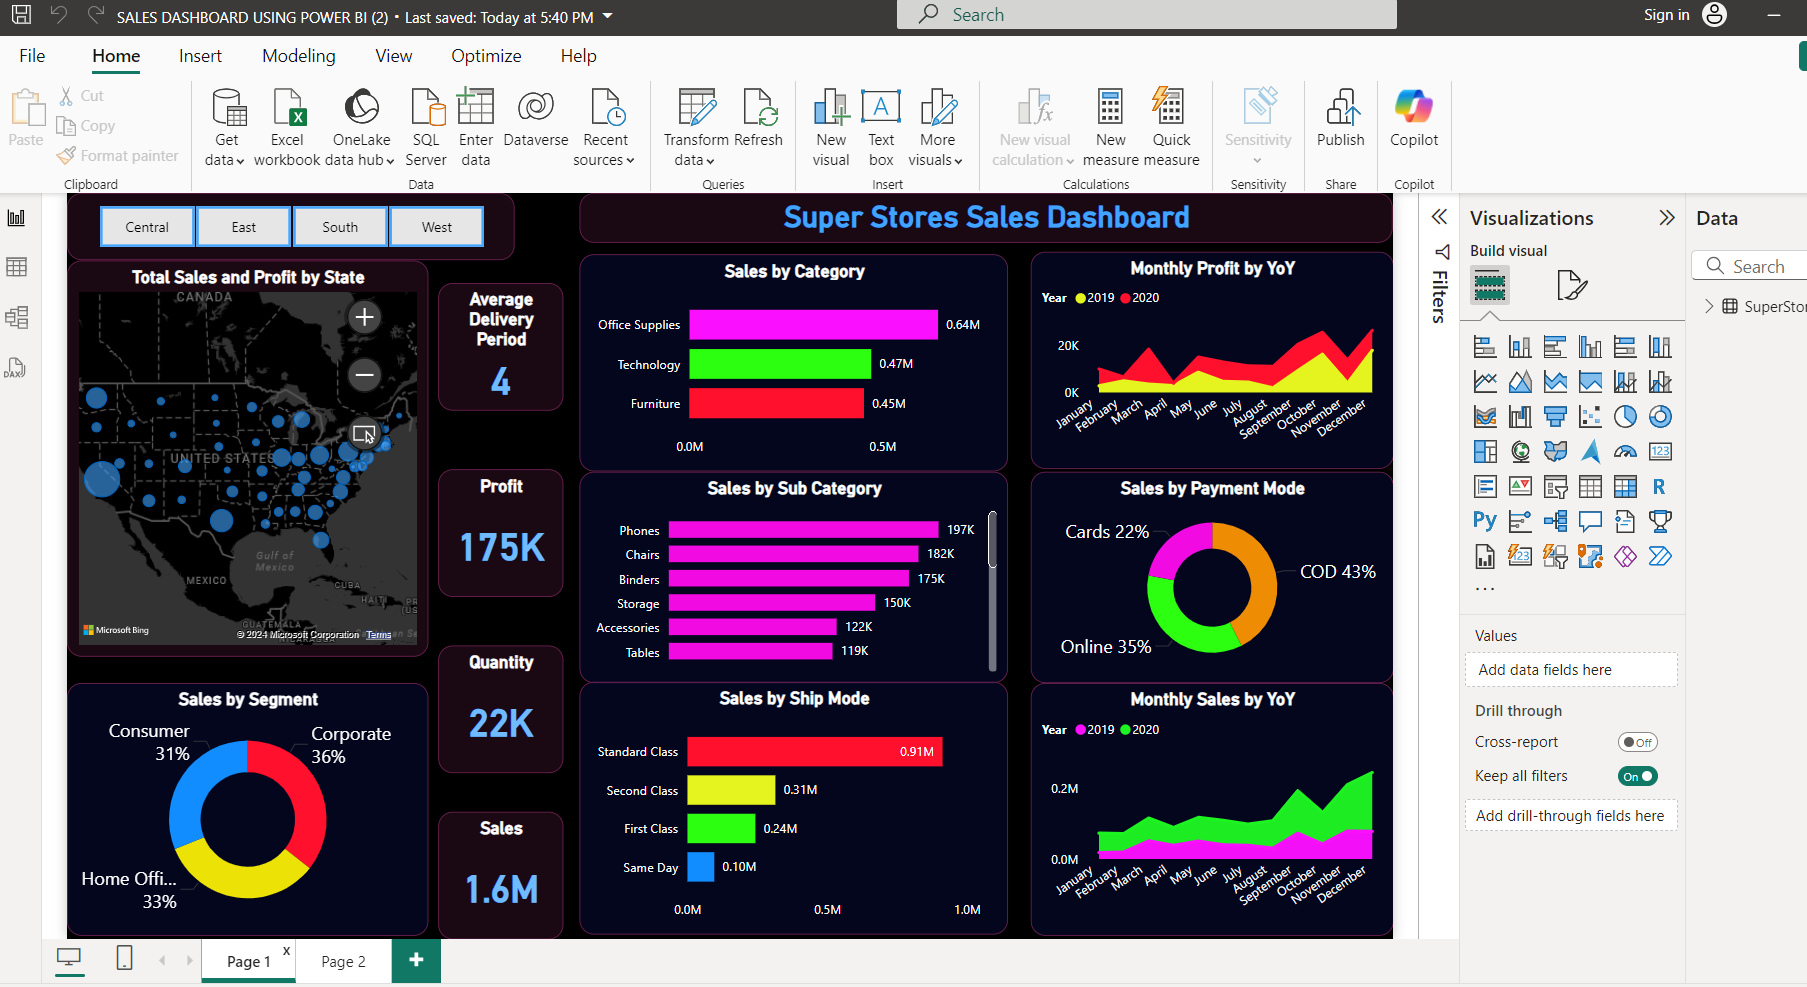

The page's visual inventory and layout, read from the dashboard file:
{"tool":"powerbi","page":{"name":"Page 1","canvas":[1280,720],"ordinal":0},"visuals":[{"type":"clusteredBarChart","title":"Sales by Category","fields":{"Category":["SuperStore_Sales_Dataset.Category"],"Y":["Sum(SuperStore_Sales_Dataset.Sales)"]},"box":[494.6,59.5,413.9,209.8],"z":0},{"type":"clusteredBarChart","title":"Sales by Sub Category","fields":{"Category":["SuperStore_Sales_Dataset.Sub-Category"],"Y":["Sum(SuperStore_Sales_Dataset.Sales)"]},"box":[494.6,269.3,413.9,204.1],"z":1000},{"type":"clusteredBarChart","title":"Sales by Ship Mode","fields":{"Category":["SuperStore_Sales_Dataset.Ship Mode"],"Y":["Sum(SuperStore_Sales_Dataset.Sales)"]},"box":[494.6,472,413.9,243.8],"z":2000},{"type":"stackedAreaChart","title":"Monthly Sales by YoY","fields":{"Y":["Sum(SuperStore_Sales_Dataset.Sales)"],"Category":["SuperStore_Sales_Dataset.Order Date.Variation.Date Hierarchy.Month"],"Series":["SuperStore_Sales_Dataset.Order Date.Variation.Date Hierarchy.Year"]},"box":[929.8,473.4,350.1,243.8],"z":3000},{"type":"stackedAreaChart","title":"Monthly Profit by YoY","fields":{"Category":["SuperStore_Sales_Dataset.Order Date.Variation.Date Hierarchy.Month"],"Series":["SuperStore_Sales_Dataset.Order Date.Variation.Date Hierarchy.Year"],"Y":["Sum(SuperStore_Sales_Dataset.Profit)"]},"box":[929.8,56.7,350.1,209.8],"z":4000},{"type":"map","title":"Total Sales and Profit by State ","fields":{"Category":["SuperStore_Sales_Dataset.State"],"Size":["Sum(SuperStore_Sales_Dataset.Sales)"]},"box":[0,65.2,348.7,382.7],"z":5000},{"type":"donutChart","title":" Sales by Segment","fields":{"Category":["SuperStore_Sales_Dataset.Segment"],"Y":["Avg(SuperStore_Sales_Dataset.Sales)"]},"box":[0,473.4,348.7,243.8],"z":6000},{"type":"donutChart","title":" Sales by Payment Mode","fields":{"Category":["SuperStore_Sales_Dataset.Payment Mode"],"Y":["Sum(SuperStore_Sales_Dataset.Sales)"]},"box":[929.8,269.3,350.1,204.1],"z":7000},{"type":"slicer","fields":{"Values":["SuperStore_Sales_Dataset.Region"]},"box":[0,0,432.3,65.2],"z":8000},{"type":"card","title":"Average Delivery Period","fields":{"Values":["Avg(SuperStore_Sales_Dataset.AvgDelivery)"]},"box":[358.6,86.5,120.5,123.3],"z":9000},{"type":"card","title":" Profit","fields":{"Values":["Sum(SuperStore_Sales_Dataset.Profit)"]},"box":[358.6,266.5,120.5,123.3],"z":10000},{"type":"card","title":" Quantity","fields":{"Values":["Sum(SuperStore_Sales_Dataset.Quantity)"]},"box":[358.6,436.5,120.5,123.3],"z":11000},{"type":"card","title":" Sales","fields":{"Values":["Sum(SuperStore_Sales_Dataset.Sales)"]},"box":[358.6,596.7,120.5,123.3],"z":12000},{"type":"textbox","title":"Super Stores Sales Dashboard ","box":[494.6,0,785.2,48.2],"z":13000}]}

Visuals, with their boxes on the page's 1280x720 design canvas (x1, y1, x2, y2). These are canvas units, not pixel positions in the 1807x987 screenshot, which may show the page scaled, cropped or inside an application window:
"Sales by Category" clusteredBarChart: box=[495, 60, 908, 269]
"Sales by Sub Category" clusteredBarChart: box=[495, 269, 908, 473]
"Sales by Ship Mode" clusteredBarChart: box=[495, 472, 908, 716]
"Monthly Sales by YoY" stackedAreaChart: box=[930, 473, 1280, 717]
"Monthly Profit by YoY" stackedAreaChart: box=[930, 57, 1280, 266]
"Total Sales and Profit by State " map: box=[0, 65, 349, 448]
" Sales by Segment" donutChart: box=[0, 473, 349, 717]
" Sales by Payment Mode" donutChart: box=[930, 269, 1280, 473]
slicer - SuperStore_Sales_Dataset.Region: box=[0, 0, 432, 65]
"Average Delivery Period" card: box=[359, 86, 479, 210]
" Profit" card: box=[359, 266, 479, 390]
" Quantity" card: box=[359, 436, 479, 560]
" Sales" card: box=[359, 597, 479, 720]
"Super Stores Sales Dashboard " textbox: box=[495, 0, 1280, 48]
